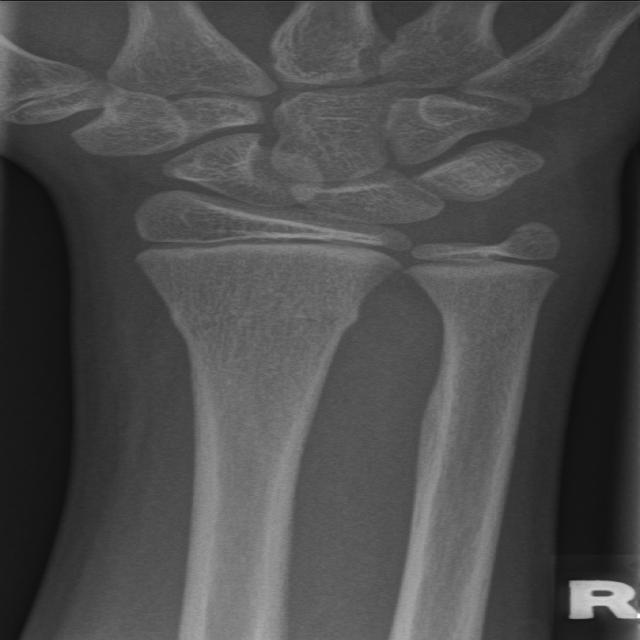radius fracture: (146, 264, 395, 419)
ulna fracture: (386, 267, 570, 445)
